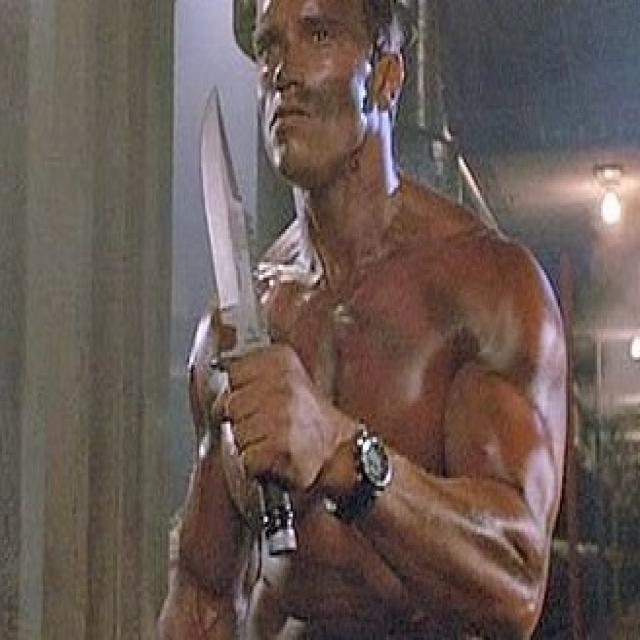knife: (203, 81, 301, 562)
